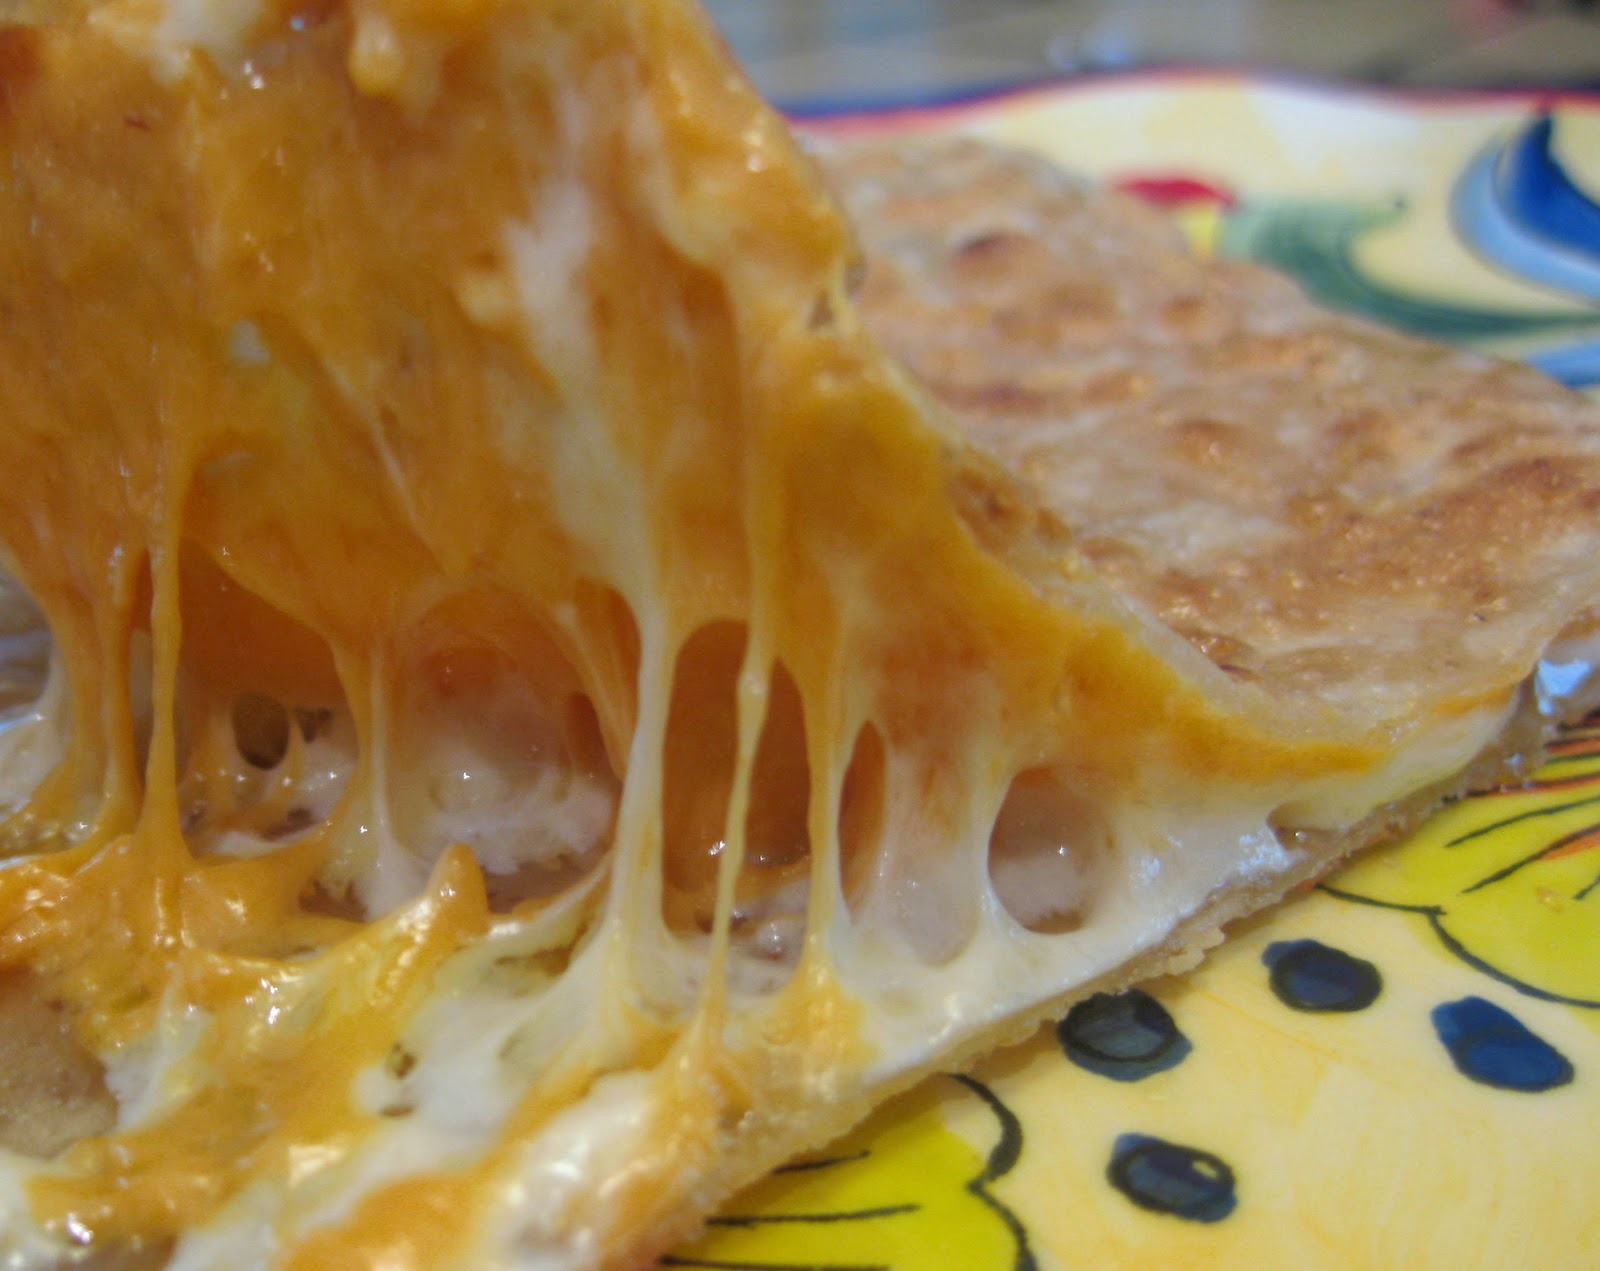cheese: (148, 269, 857, 734), (94, 862, 831, 1203)
